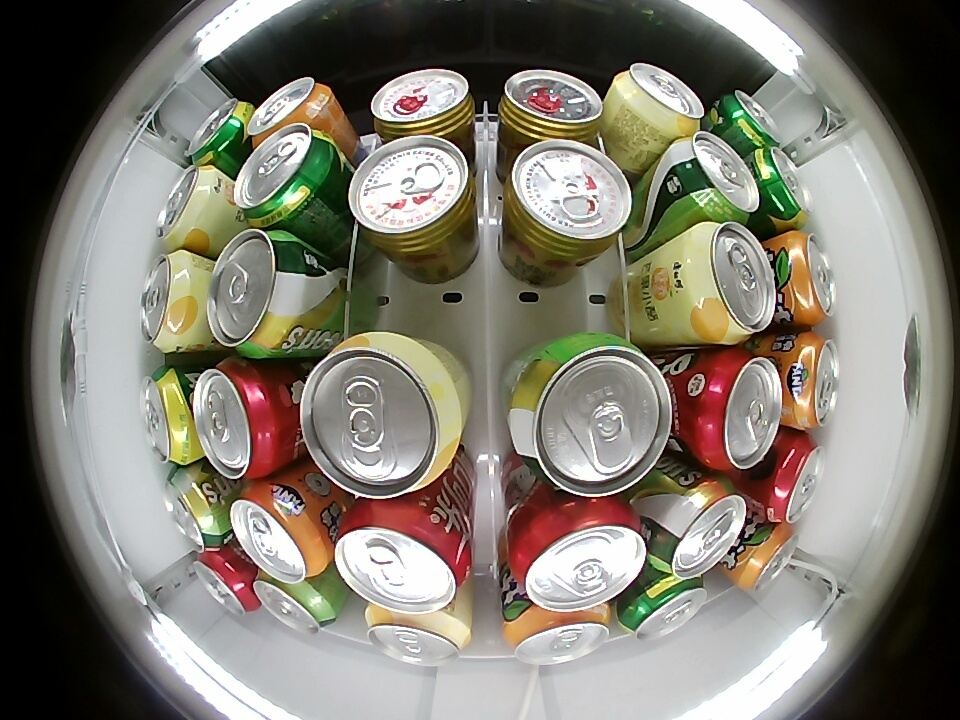fenda: (229, 481, 329, 584), (502, 604, 611, 666), (248, 77, 335, 147), (783, 333, 840, 429), (779, 232, 836, 324), (736, 525, 799, 592)
hongniu: (497, 69, 604, 142), (370, 68, 476, 140)
hongniu2: (503, 139, 632, 261), (349, 136, 476, 254)
kele: (508, 500, 648, 612), (335, 501, 470, 614), (192, 357, 284, 480), (689, 350, 782, 470), (765, 434, 826, 524), (194, 551, 261, 617)
mangguoxiaolao: (298, 333, 465, 498), (677, 221, 777, 344), (611, 62, 704, 139), (364, 605, 471, 666), (140, 251, 203, 353), (155, 164, 225, 250)
quchenshixiangcao: (508, 333, 674, 497), (207, 229, 310, 358), (651, 475, 748, 579), (668, 132, 760, 228), (253, 570, 338, 635), (162, 468, 226, 550)
xuebi2: (234, 122, 339, 230), (617, 574, 707, 640), (140, 366, 199, 465), (751, 146, 814, 229), (186, 98, 253, 167), (713, 90, 781, 149)
